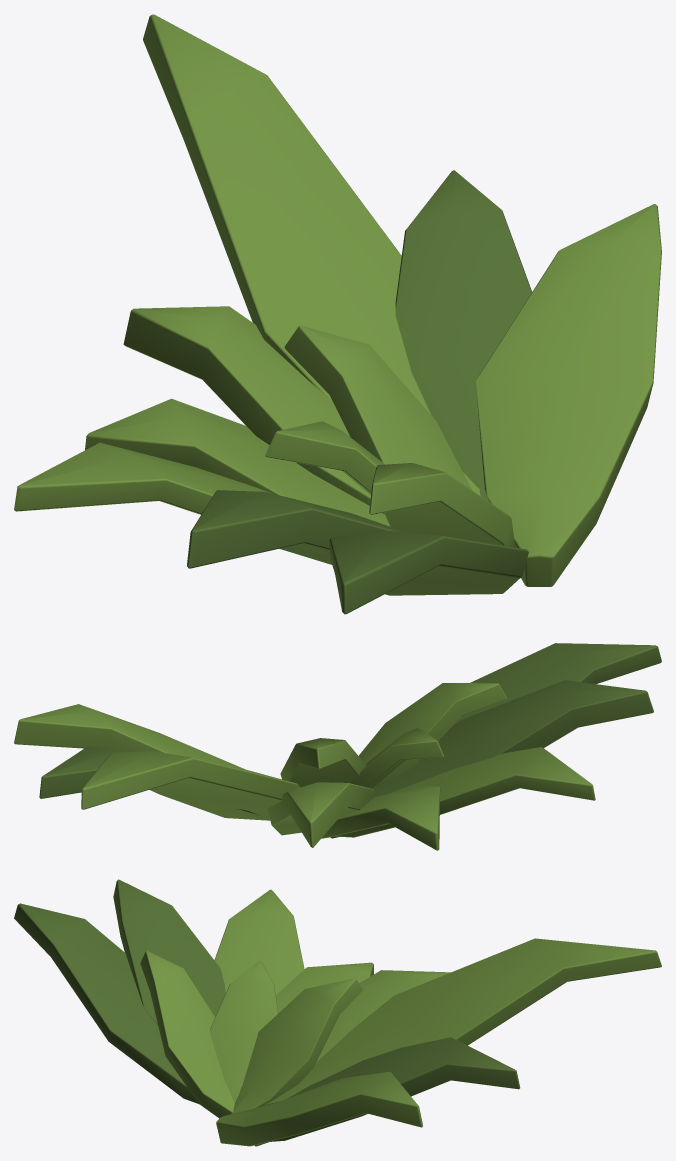
The model's file is grass_directional_fan.glb.
3 renders of one model, top to bottom at view 1: azimuth 30°, elevation 25°; view 2: azimuth 150°, elevation 25°; view 3: azimuth 270°, elevation 25°, orthographic. The views are drawn at different scales.
Visible parts, largest first — view 1: grass_directional_fan; view 2: grass_directional_fan; view 3: grass_directional_fan.
Boxes of the visible parts, x1=… form: grass_directional_fan: x1=14, y1=14, x2=661, y2=614; grass_directional_fan: x1=14, y1=643, x2=661, y2=850; grass_directional_fan: x1=14, y1=879, x2=661, y2=1146.
Bounding box in the file's own units: 0.3291 × 0.1274 × 0.4056.
